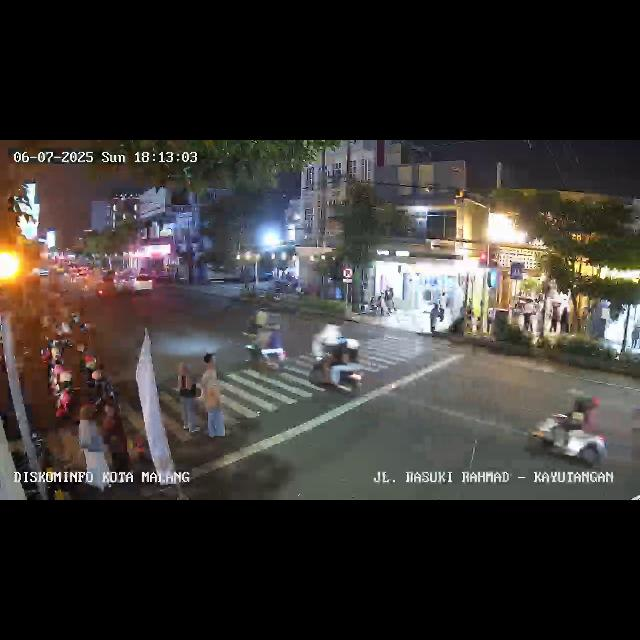car: (115, 272, 155, 296)
motorcycle: (528, 394, 612, 476), (308, 322, 368, 398), (244, 318, 288, 378)
person: (78, 408, 106, 492), (174, 361, 202, 435), (198, 372, 228, 440), (105, 404, 131, 480), (196, 348, 222, 378), (430, 301, 442, 333), (524, 303, 534, 341), (560, 304, 570, 334), (384, 287, 394, 315), (632, 321, 640, 351), (549, 304, 557, 332), (439, 292, 446, 322)
